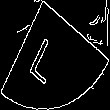L_NE: (36, 25, 74, 85)
